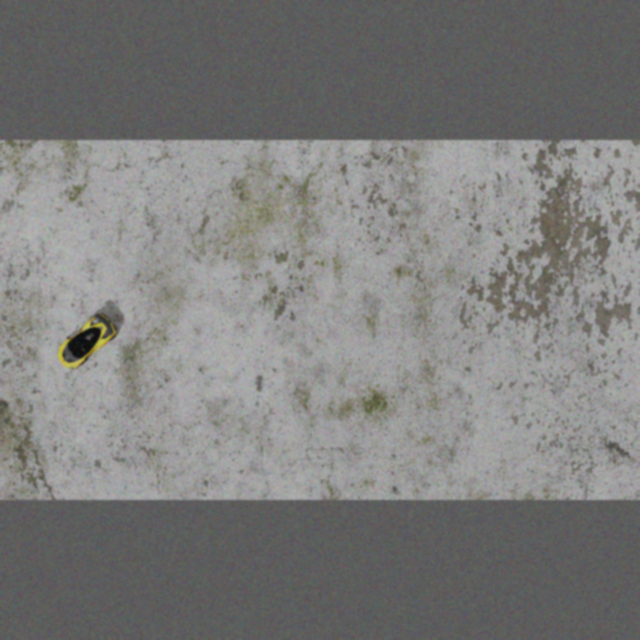car: (46, 309, 123, 376)
